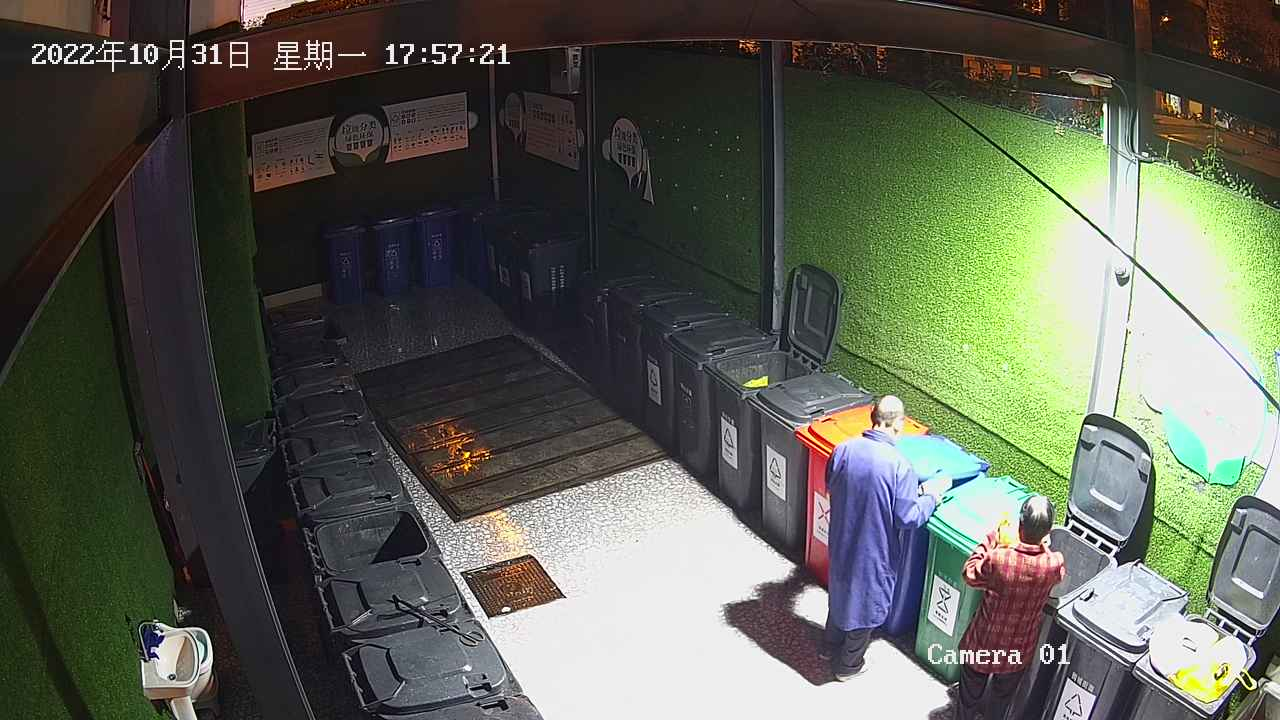person: (959, 493, 1066, 720)
worker: (816, 394, 951, 684)
